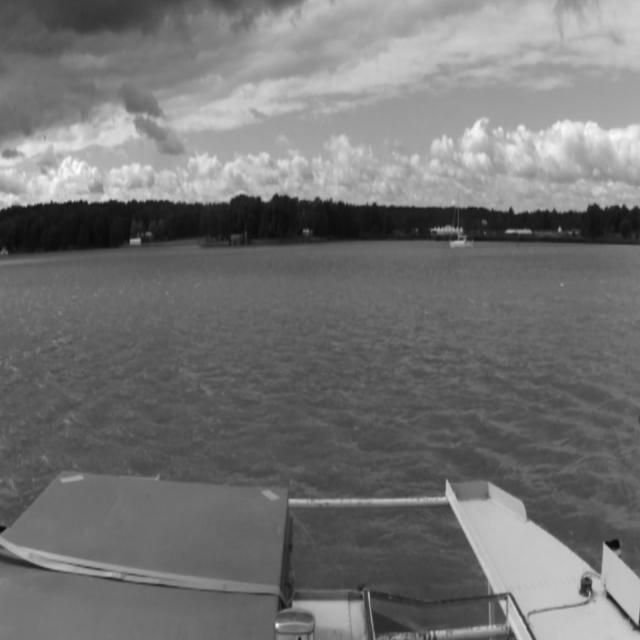ship: (449, 188, 473, 248)
